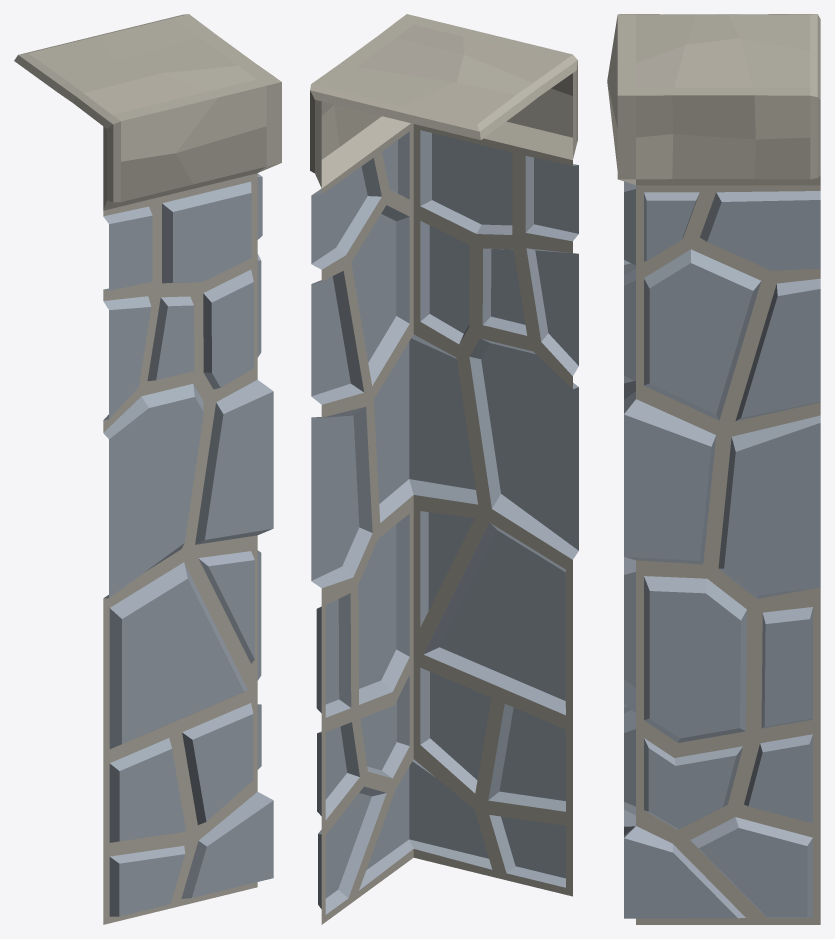
Rendered from SM_SkyIslands_Corner.fbx.
3 views of the same model, side by side, from view 1: azimuth 30°, elevation 25°; view 2: azimuth 150°, elevation 25°; view 3: azimuth 270°, elevation 25° (orthographic). The views are drawn at different scales.
Visible parts, largest first — view 1: SM_SkyIslands_Corner; view 2: SM_SkyIslands_Corner; view 3: SM_SkyIslands_Corner.
Part boxes in pixels (x1,y1,x2,y2): SM_SkyIslands_Corner: (14, 14, 281, 924); SM_SkyIslands_Corner: (310, 14, 578, 924); SM_SkyIslands_Corner: (607, 14, 820, 924).
Size of the model in its own units: 450 by 2015 by 463.
